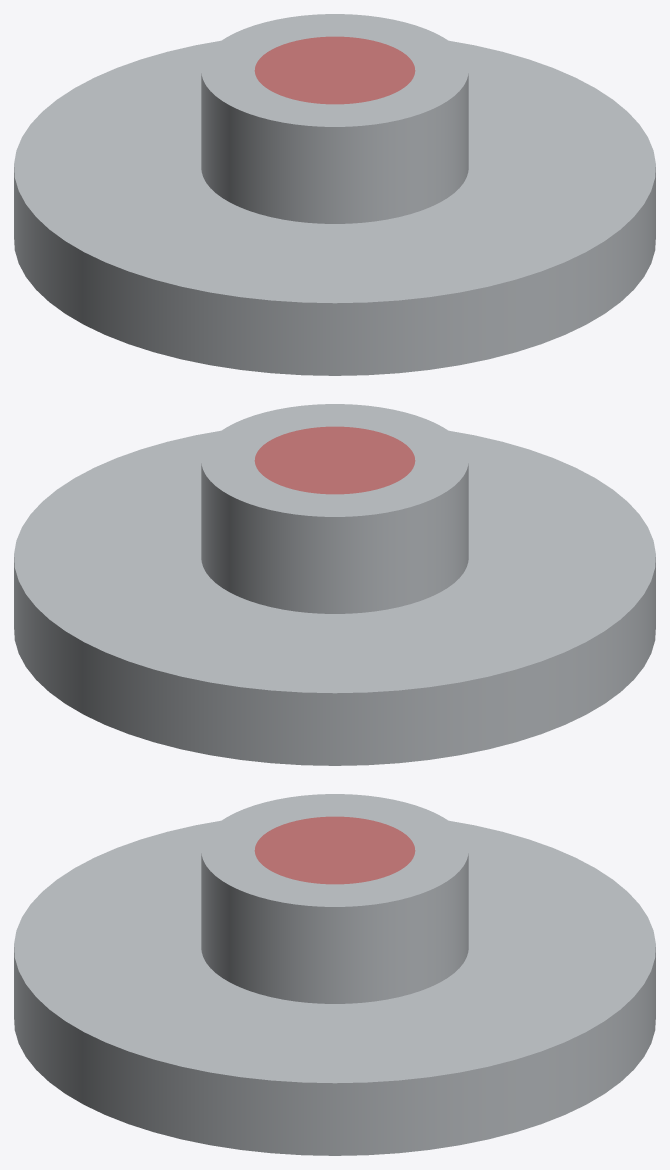
The model's file is step_04.glb.
3 views of the same model, one above another, from view 1: azimuth 30°, elevation 25°; view 2: azimuth 150°, elevation 25°; view 3: azimuth 270°, elevation 25° (orthographic).
Visible parts, largest first — view 1: part__PCD flange, removed__PCD flange; view 2: part__PCD flange, removed__PCD flange; view 3: part__PCD flange, removed__PCD flange.
Part boxes in pixels (box(x1,y1,x2,y2)): part__PCD flange: box(14, 14, 655, 375); removed__PCD flange: box(254, 36, 415, 104); part__PCD flange: box(14, 404, 655, 765); removed__PCD flange: box(254, 426, 415, 494); part__PCD flange: box(14, 794, 655, 1155); removed__PCD flange: box(254, 816, 415, 884).
Size of the model in its own units: 120 by 35 by 120.
